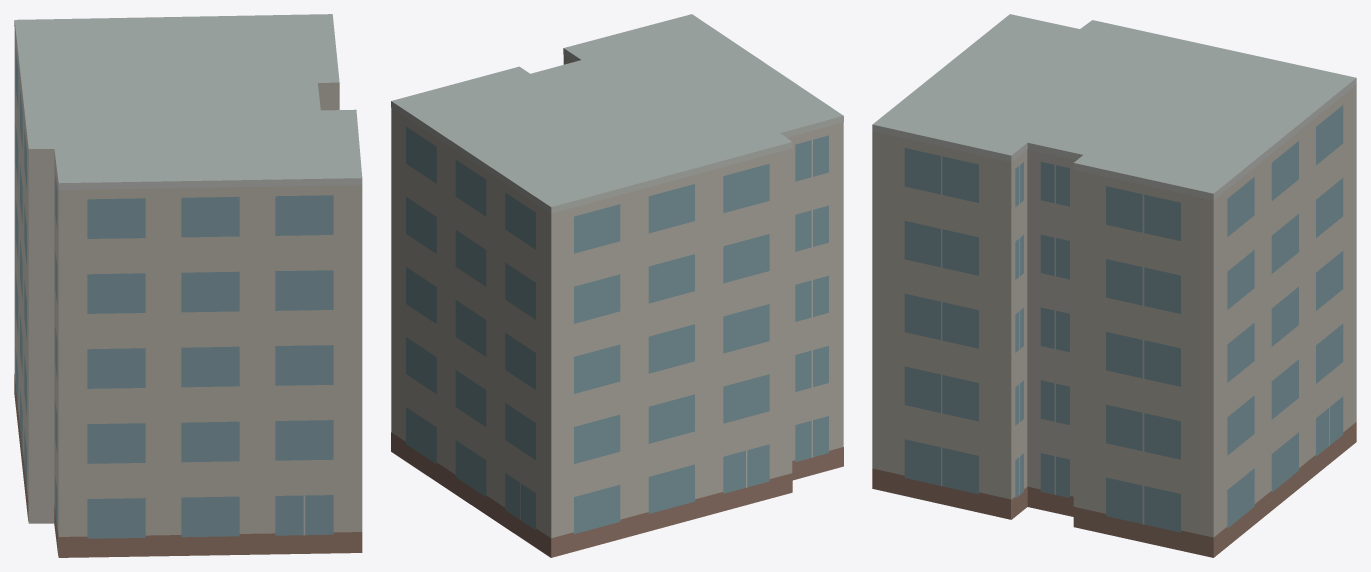
The model's file is survey-upis-32666453.glb.
The picture shows the model from 3 angles, left to right: view 1: azimuth 30°, elevation 25°; view 2: azimuth 150°, elevation 25°; view 3: azimuth 270°, elevation 25°; orthographic projection. The views are drawn at different scales.
Parts seen in each view (by area): view 1: survey-upis-32666453.tmp; view 2: survey-upis-32666453.tmp; view 3: survey-upis-32666453.tmp.
Part boxes in pixels (x1,y1,x2,y2): survey-upis-32666453.tmp: [14, 14, 362, 557]; survey-upis-32666453.tmp: [391, 14, 843, 557]; survey-upis-32666453.tmp: [872, 14, 1356, 557].
Bounding box in the file's own units: 13.98 × 13.2 × 15.92.
